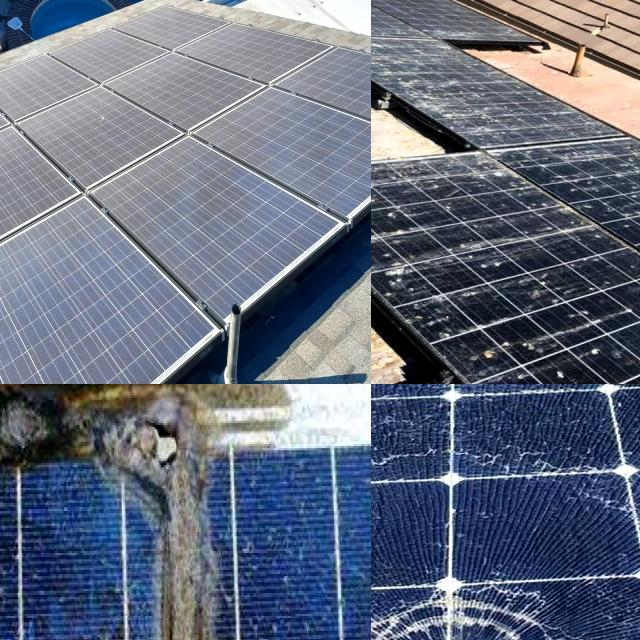bird: (468, 232, 612, 336), (371, 44, 528, 116), (437, 170, 608, 218), (371, 165, 423, 276), (527, 349, 640, 384)
dust: (72, 88, 132, 147)
hotspot: (371, 563, 616, 640)
shadow: (0, 384, 259, 640)
